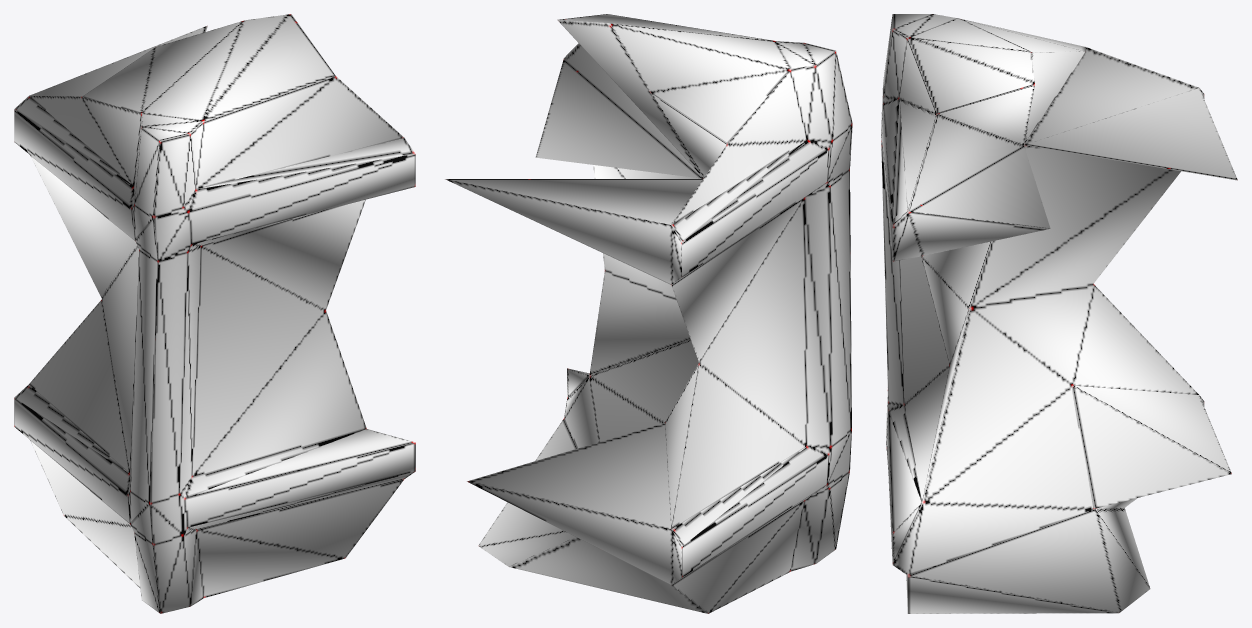
Rendered from building_tower_front3.fbx.
3 views of the same model, side by side, from view 1: azimuth 30°, elevation 25°; view 2: azimuth 150°, elevation 25°; view 3: azimuth 270°, elevation 25° (orthographic). The views are drawn at different scales.
Parts seen in each view (by area): view 1: 3; view 2: 3; view 3: 3.
Part boxes in pixels (x1,y1,x2,y2): 3: [14, 14, 415, 613]; 3: [445, 14, 852, 613]; 3: [881, 14, 1237, 613].
Size of the model in its own units: 0.9962 by 1.81 by 1.08.
Materials: 1 (1 with a texture image).
